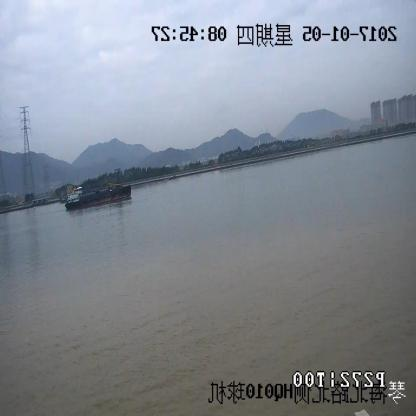Bulk Carrier: (68, 172, 130, 208)
